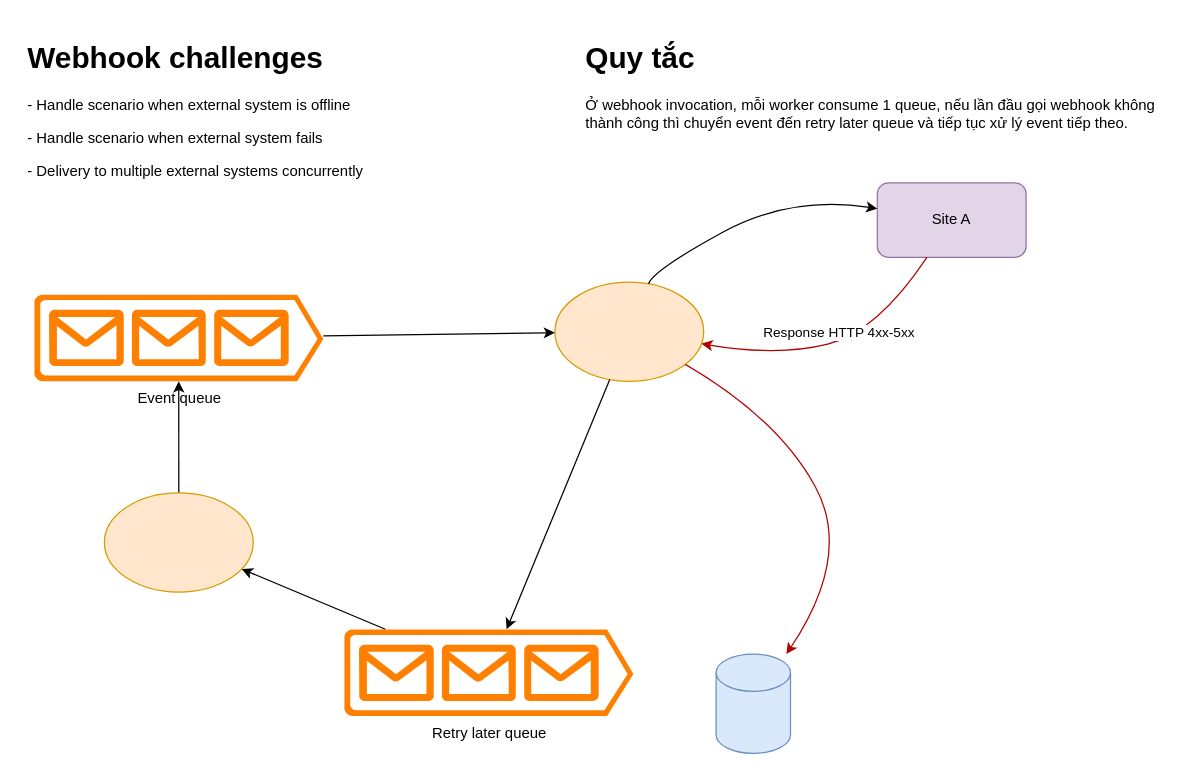
This 1195x775 diagram has some shape labels left out. The shapes that lost their labels are listed below. From the top down, each one's box as (x1, y1, x2, y2) in pixels, then its label:
(554, 281, 704, 381): Webhook Invocation Task
(103, 492, 253, 592): Worklow rescheduler
